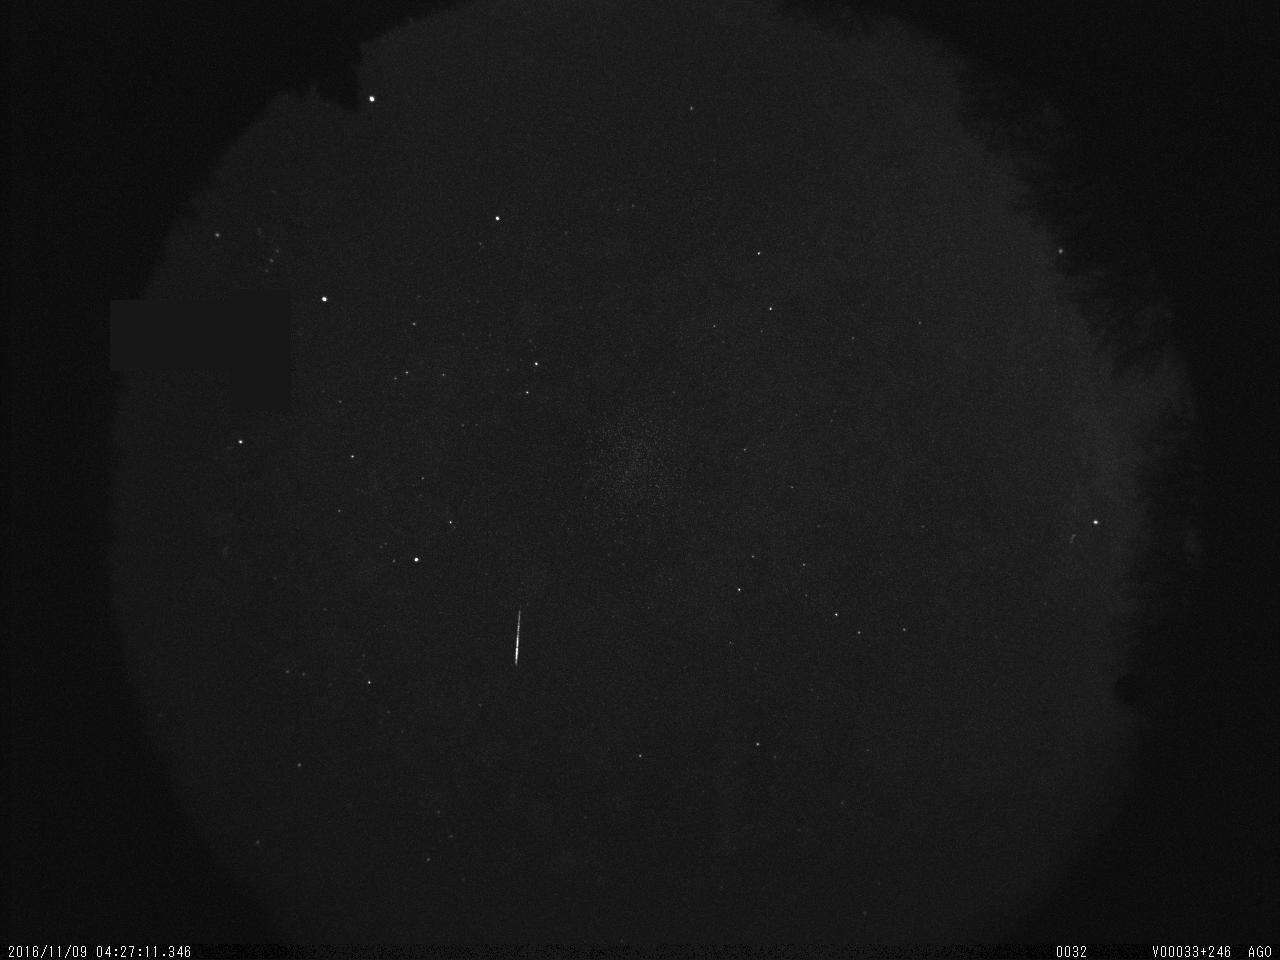meteor: (510, 599, 526, 675)
